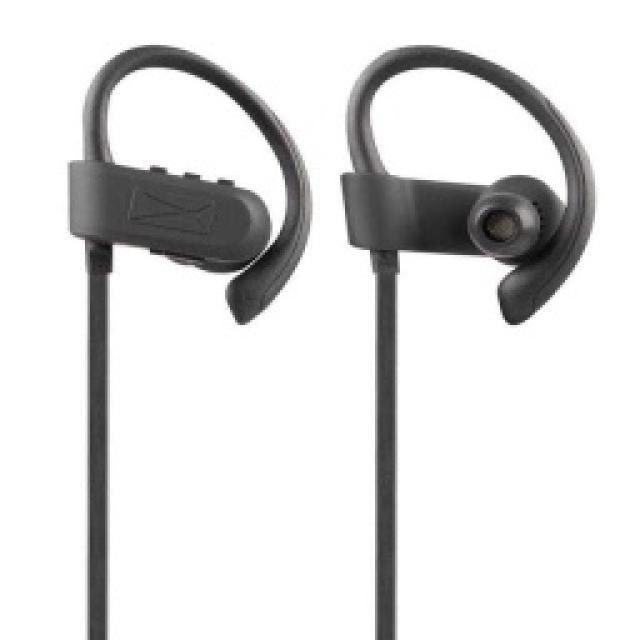headphones: (340, 40, 595, 325), (65, 40, 313, 322)
